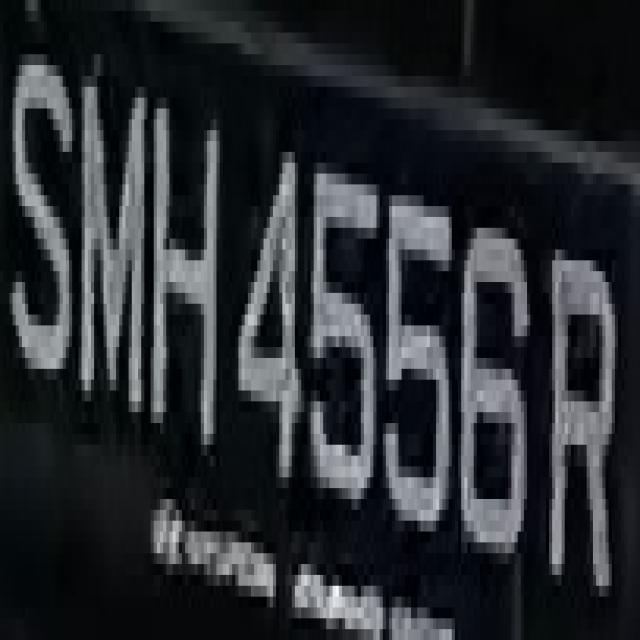4: (220, 98, 308, 520)
5: (298, 130, 377, 532), (376, 163, 452, 553)
6: (442, 195, 536, 586)
H: (150, 55, 222, 478)
M: (75, 33, 154, 477)
R: (539, 238, 624, 640)
S: (6, 44, 82, 402)
